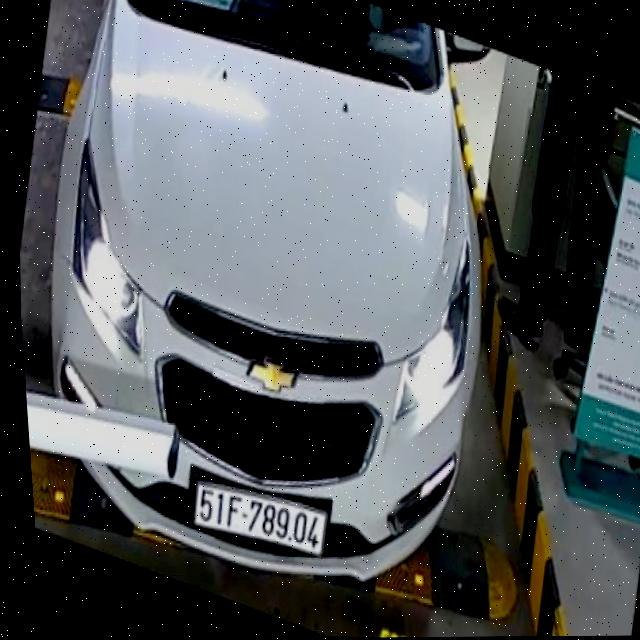car: (17, 0, 528, 592)
plate: (185, 475, 333, 560)
